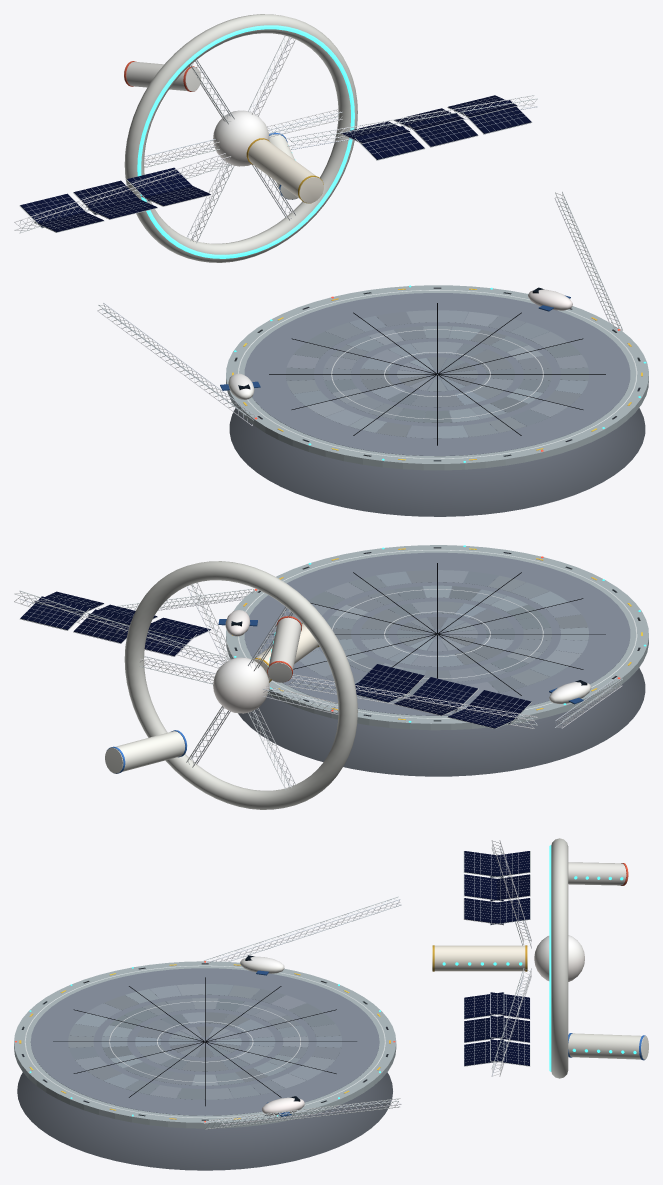
File: journey_orbit.glb
3 renders of one model, top to bottom at view 1: azimuth 30°, elevation 25°; view 2: azimuth 150°, elevation 25°; view 3: azimuth 270°, elevation 25°, orthographic. The views are drawn at different scales.
Parts seen in each view (by area): view 1: Scenery_orbit_Journey Paint, Scenery_orbit_Journey Steel, Scenery_orbit_Journey Plaster, Scenery_orbit_Journey Glass, Scenery_orbit_Journey Glow cyan, Scenery_orbit_Journey Rubber; view 2: Scenery_orbit_Journey Paint, Scenery_orbit_Journey Steel, Scenery_orbit_Journey Plaster, Scenery_orbit_Journey Glass, Scenery_orbit_Journey Rubber; view 3: Scenery_orbit_Journey Paint, Scenery_orbit_Journey Steel, Scenery_orbit_Journey Plaster, Scenery_orbit_Journey Glass, Scenery_orbit_Journey Rubber, Scenery_orbit_Journey Glow cyan.
Boxes of the visible parts, x1,y1,x2,y2 form: Scenery_orbit_Journey Paint: (220, 285, 648, 470); Scenery_orbit_Journey Steel: (14, 36, 645, 516); Scenery_orbit_Journey Plaster: (124, 14, 572, 399); Scenery_orbit_Journey Glass: (20, 95, 543, 389); Scenery_orbit_Journey Glow cyan: (137, 25, 646, 462); Scenery_orbit_Journey Rubber: (269, 303, 605, 445); Scenery_orbit_Journey Paint: (218, 545, 648, 730); Scenery_orbit_Journey Steel: (14, 582, 645, 789); Scenery_orbit_Journey Plaster: (105, 561, 591, 809); Scenery_orbit_Journey Glass: (20, 591, 587, 728); Scenery_orbit_Journey Rubber: (269, 563, 605, 695); Scenery_orbit_Journey Paint: (14, 961, 396, 1128); Scenery_orbit_Journey Steel: (17, 840, 645, 1170); Scenery_orbit_Journey Plaster: (240, 838, 648, 1115); Scenery_orbit_Journey Glass: (245, 851, 529, 1101); Scenery_orbit_Journey Rubber: (53, 977, 356, 1106); Scenery_orbit_Journey Glow cyan: (29, 845, 636, 1116).
Size of the model in its own units: 68.16 by 33.48 by 79.71.
